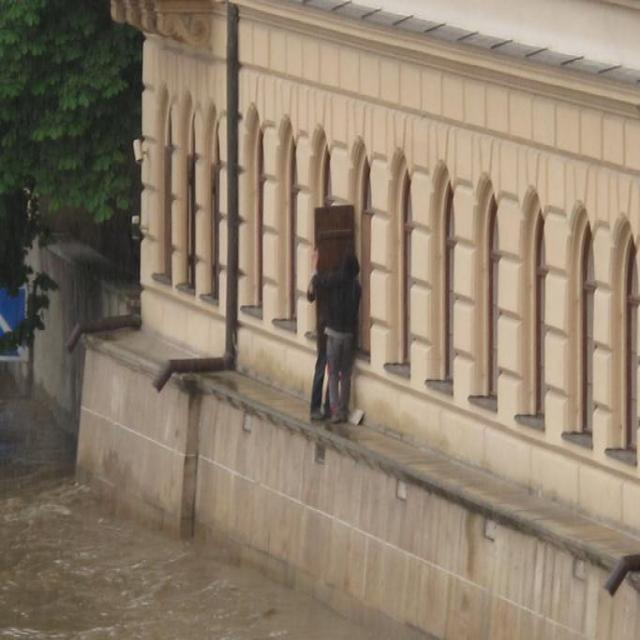flood: (0, 477, 289, 640)
